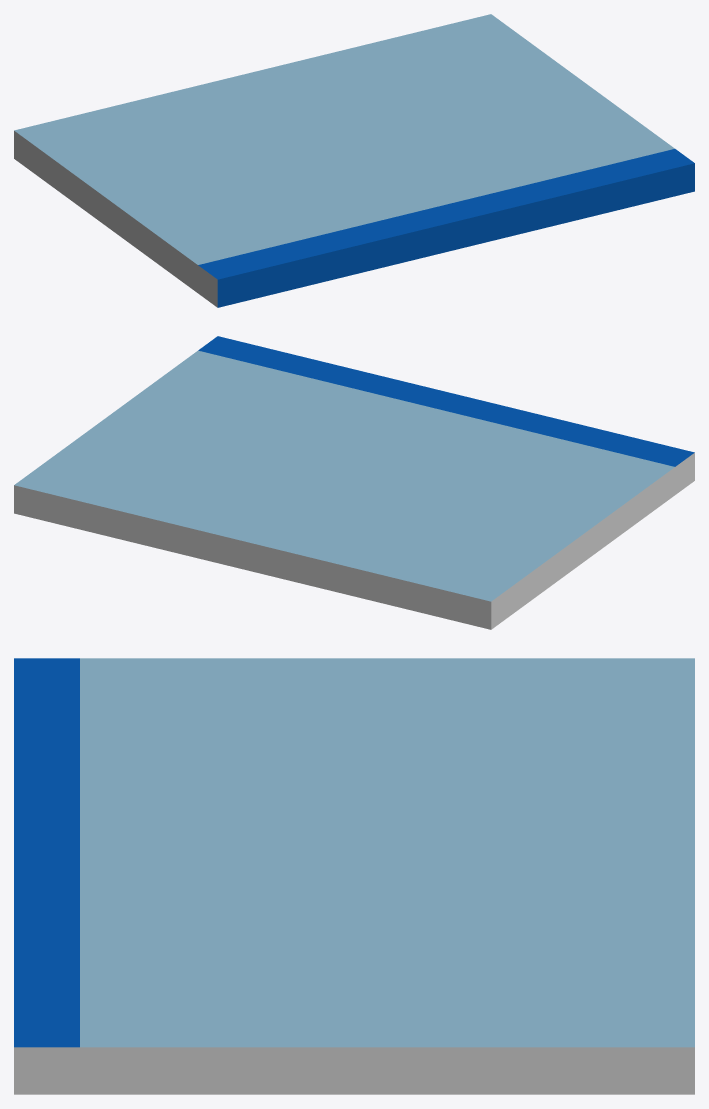
File: note_1.fbx
3 views of the same model, one above another, from view 1: azimuth 30°, elevation 25°; view 2: azimuth 150°, elevation 25°; view 3: azimuth 270°, elevation 25° (orthographic). The views are drawn at different scales.
Visible parts, largest first — view 1: pCube1; view 2: pCube1; view 3: pCube1.
Part boxes in pixels (x1,y1,x2,y2): pCube1: (14, 14, 694, 307); pCube1: (14, 336, 694, 629); pCube1: (14, 658, 694, 1094).
Bounding box in the file's own units: 4.35 × 0.2462 × 3.22.
